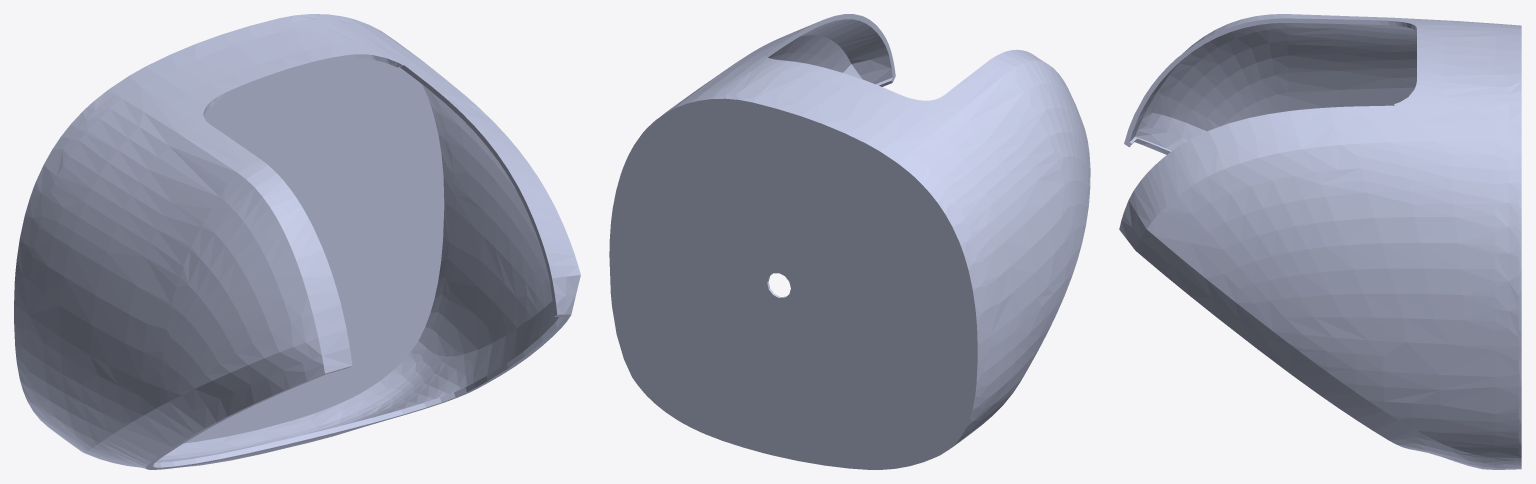
Rendered from left_hip_roll_link.dae.
The picture shows the model from 3 angles, left to right: view 1: azimuth 30°, elevation 25°; view 2: azimuth 150°, elevation 25°; view 3: azimuth 270°, elevation 25°; orthographic projection. The views are drawn at different scales.
Parts seen in each view (by area): view 1: left_hip_roll_link; view 2: left_hip_roll_link; view 3: left_hip_roll_link.
Boxes of the visible parts, <box> form: left_hip_roll_link: <box>14,14,580,469</box>; left_hip_roll_link: <box>609,14,1090,469</box>; left_hip_roll_link: <box>1119,14,1521,469</box>.
Size of the model in its own units: 0.1418 by 0.1297 by 0.1267.
